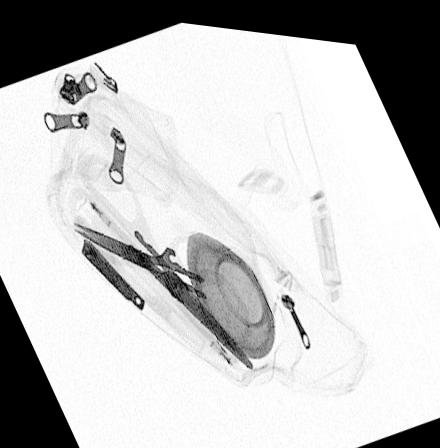Scissors: (66, 152, 252, 366), (72, 218, 243, 333)
